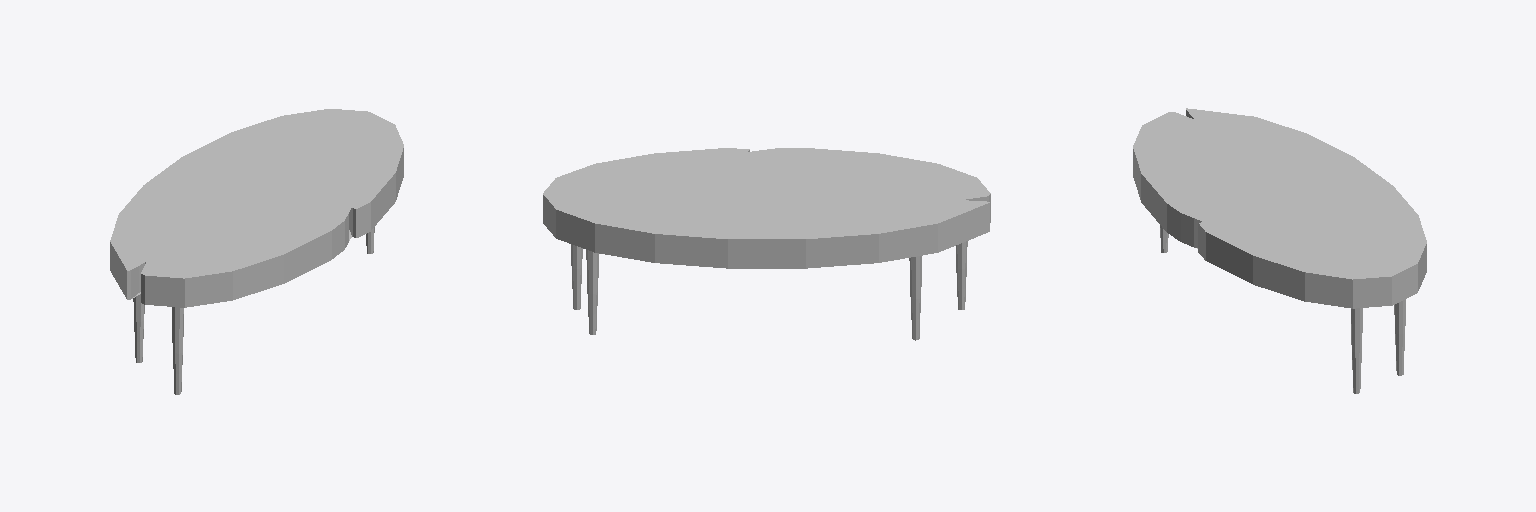
Rendered from meja daun.obj.
3 renders of one model, left to right at view 1: azimuth 30°, elevation 25°; view 2: azimuth 150°, elevation 25°; view 3: azimuth 270°, elevation 25°, orthographic.
Parts seen in each view (by area): view 1: meja; view 2: meja; view 3: meja.
Part boxes in pixels (bbox=[...]): meja: bbox=[110, 109, 403, 394]; meja: bbox=[543, 148, 990, 340]; meja: bbox=[1133, 108, 1426, 393].
Bounding box in the file's own units: 3959 × 1339 × 2875.